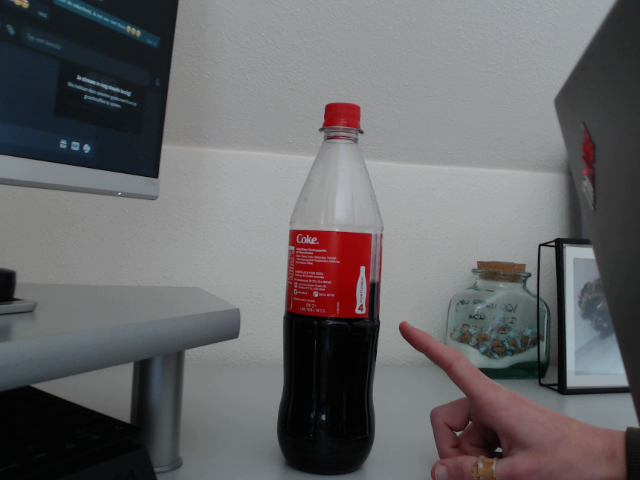bottle: (277, 102, 384, 473)
